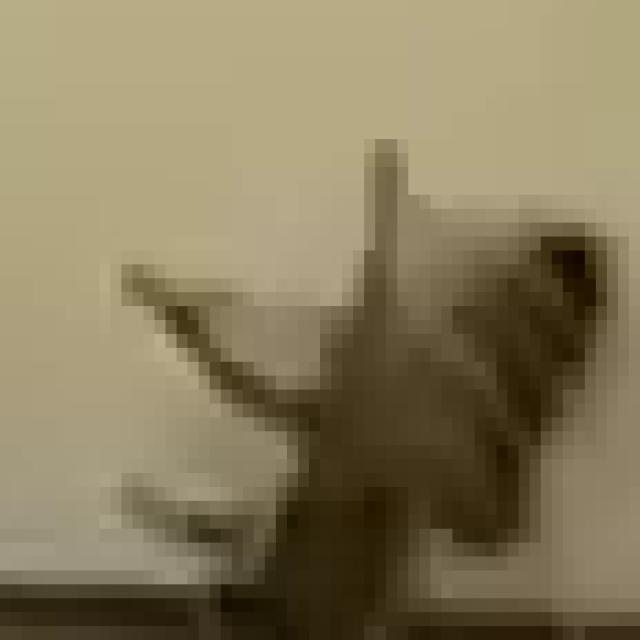honeybee: (165, 125, 640, 626)
